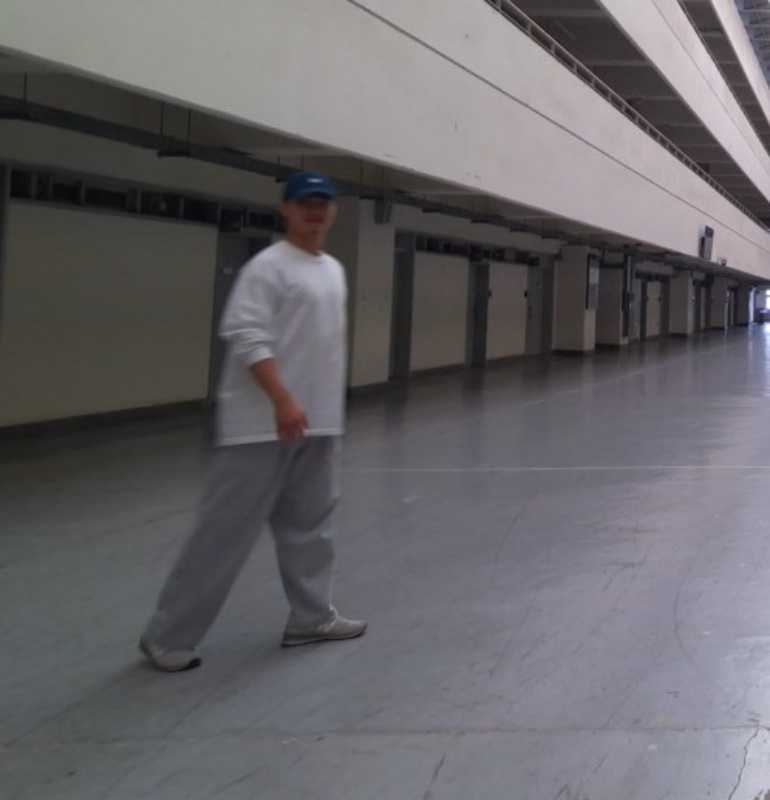person: (135, 168, 373, 675)
